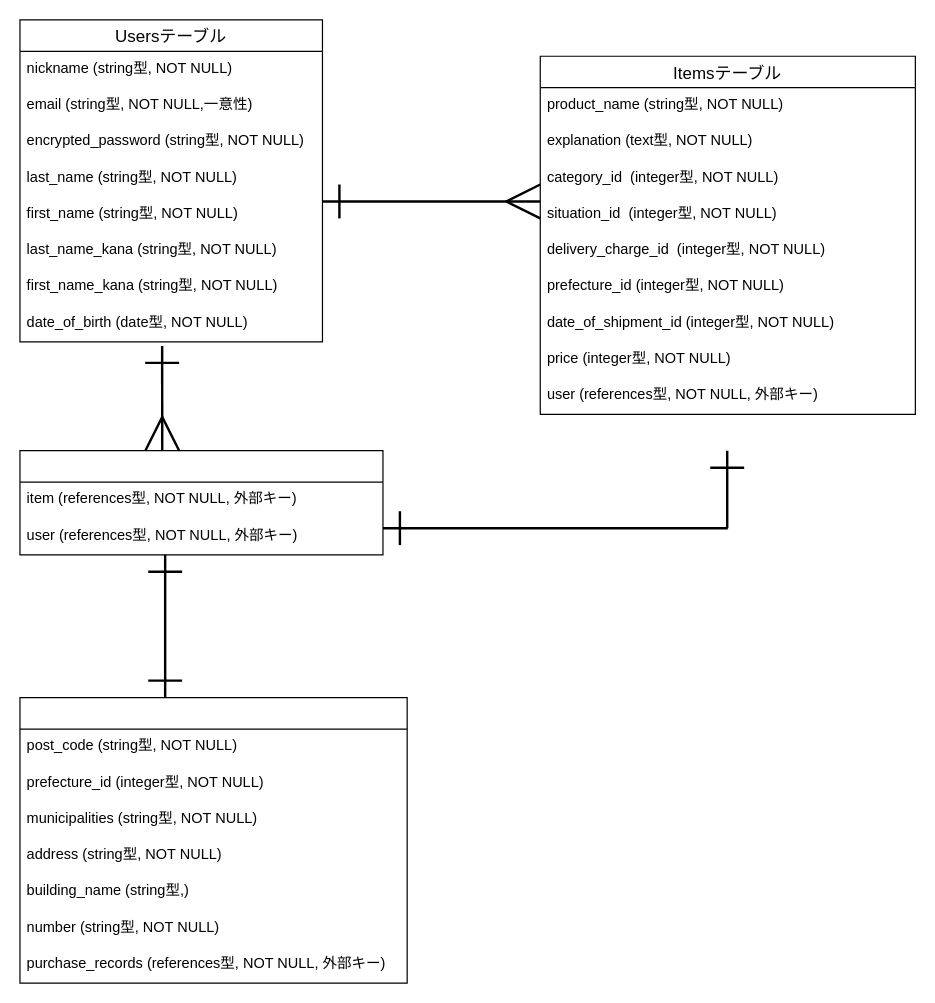
This 935x1003 diagram has some shape labels left out. The box of each missing label's shape, as (x1, y1, x2, y2) in pixels:
Purchase_records: (19, 450, 383, 555)
Shipping_address: (19, 696, 407, 983)
